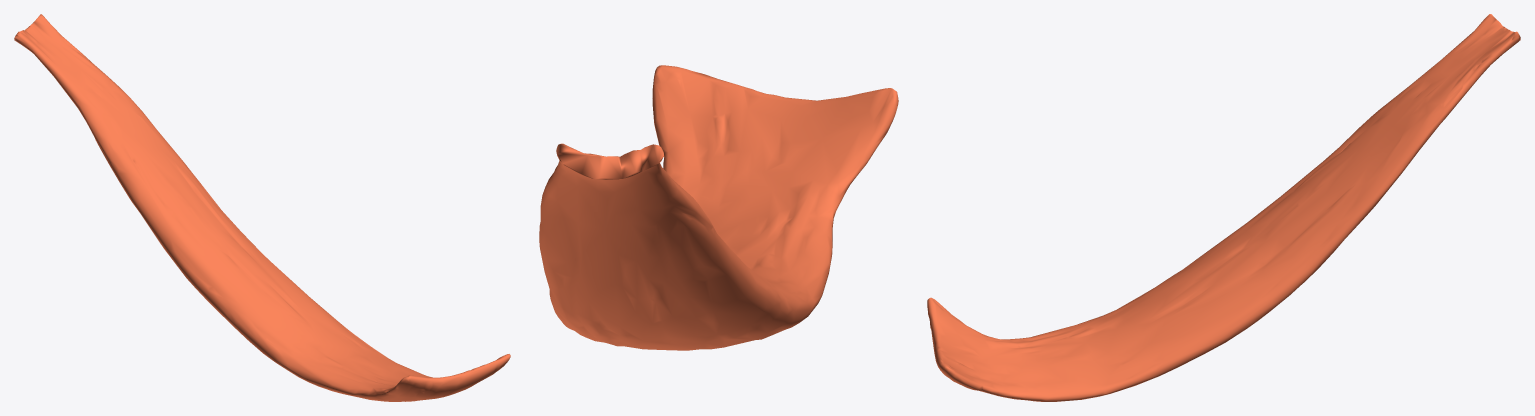
The model's file is Inferior_rectus_left.glb.
The picture shows the model from 3 angles, left to right: view 1: azimuth 30°, elevation 25°; view 2: azimuth 150°, elevation 25°; view 3: azimuth 270°, elevation 25°; orthographic projection. The views are drawn at different scales.
Parts seen in each view (by area): view 1: Inferior_rectus_muscle.l_grp1.014; view 2: Inferior_rectus_muscle.l_grp1.014; view 3: Inferior_rectus_muscle.l_grp1.014.
Part boxes in pixels (x1=…): Inferior_rectus_muscle.l_grp1.014: x1=14, y1=14, x2=510, y2=401; Inferior_rectus_muscle.l_grp1.014: x1=539, y1=65, x2=898, y2=350; Inferior_rectus_muscle.l_grp1.014: x1=927, y1=14, x2=1520, y2=401.
Bounding box in the file's own units: 0.0222 × 0.0218 × 0.0414.
